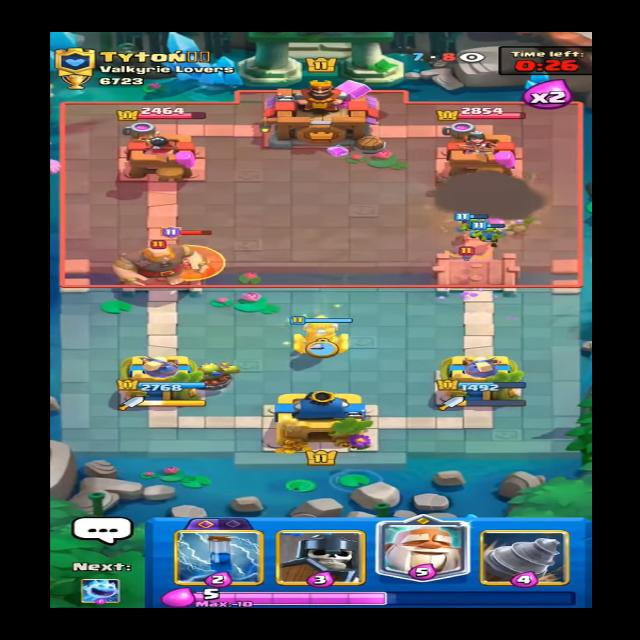bats: (447, 245, 480, 268)
evo-wizard: (155, 232, 223, 282)
giant: (107, 238, 208, 284)
